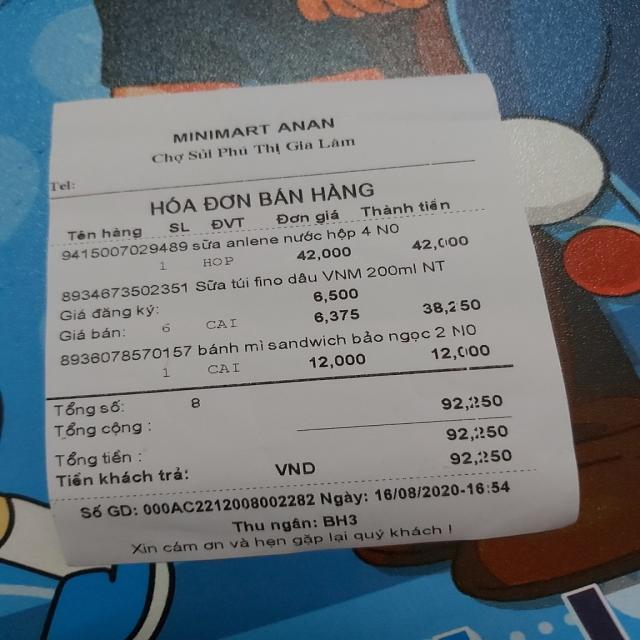Date: (375, 482, 461, 500)
Store_Name: (166, 113, 348, 144)
amount_number: (440, 392, 505, 411)
label_total: (52, 418, 145, 438)
